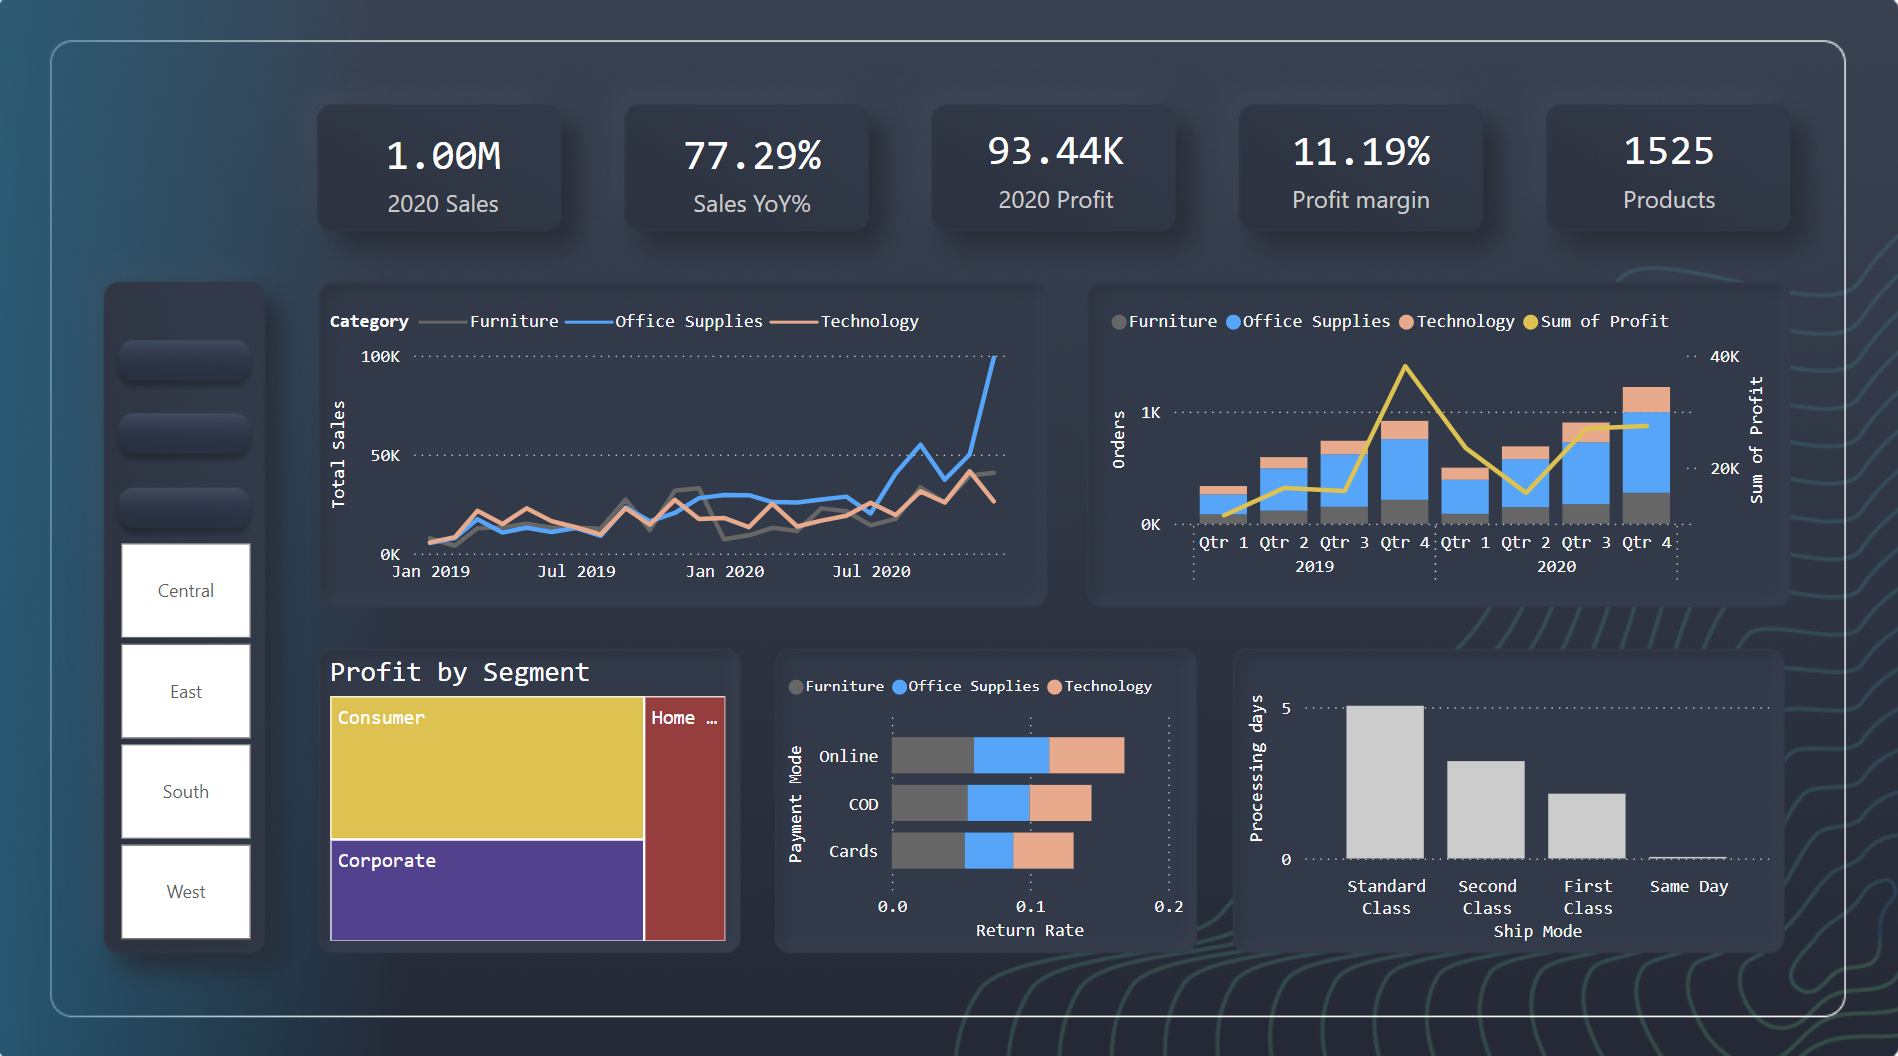

This screenshot's page, from the dashboard's own definition file:
{"tool":"powerbi","page":{"name":"Page 1","canvas":[1280,720],"ordinal":0},"visuals":[{"type":"columnChart","fields":{"Category":["Sheet1.Ship Mode"],"Y":["Avg(Sheet1.Processing Time (Days))"]},"box":[835.4,443.6,359.8,196.4],"z":0},{"type":"card","fields":{"Values":["Sheet1.Sales YoY%"]},"box":[427.6,76.4,161,81.9],"z":1000},{"type":"lineChart","fields":{"Category":["Sheet1.Order Date.Variation.Date Hierarchy.Year","Sheet1.Order Date.Variation.Date Hierarchy.Quarter","Sheet1.Order Date.Variation.Date Hierarchy.Month","Sheet1.Order Date.Variation.Date Hierarchy.Day"],"Y":["Sum(Sheet1.Sales)"],"Series":["Sheet1.Category"]},"box":[220.2,200.6,481.8,203.7],"z":2000},{"type":"treemap","title":"Profit by Segment","fields":{"Values":["Sum(Sheet1.Profit)"],"Group":["Sheet1.Segment"]},"box":[220.2,443.6,275,196.4],"z":3000},{"type":"card","fields":{"Values":["Sum(Sheet1.Profit)"]},"box":[631.7,73.4,160.3,81.7],"z":4000},{"type":"card","fields":{"Values":["Sum(Sheet1.Sales)"]},"box":[220.7,76.4,161,81.9],"z":5000},{"type":"card","fields":{"Values":["Sheet1.Profit margin"]},"box":[835.8,74.4,160.9,80.5],"z":6000},{"type":"slicer","fields":{"Values":["Sheet1.Region"]},"box":[59.3,361.1,136.8,279.6],"z":7000},{"type":"barChart","fields":{"Category":["Sheet1.Payment Mode"],"Y":["Avg(Sheet1.Order Return)"],"Series":["Sheet1.Category"]},"box":[527.3,445.6,275,194.4],"z":8000},{"type":"lineStackedColumnComboChart","fields":{"Category":["Sheet1.Order Date.Variation.Date Hierarchy.Year","Sheet1.Order Date.Variation.Date Hierarchy.Quarter","Sheet1.Order Date.Variation.Date Hierarchy.Month","Sheet1.Order Date.Variation.Date Hierarchy.Day"],"Y2":["Sum(Sheet1.Profit)"],"Series":["Sheet1.Category"],"Y":["CountNonNull(Sheet1.Customer ID)"]},"box":[743.4,200.6,451.8,203.7],"z":9000},{"type":"card","fields":{"Values":["Count(Sheet1.Product ID)"]},"box":[1043,73.4,159.9,81.5],"z":10000}]}

Visuals, with their boxes in screenshot pixels (x1, y1, x2, y2), scaled from the page's 1280x720 canvas onto the 1898x1056 screenshot:
columnChart - Sheet1.Ship Mode x Avg(Sheet1.Processing Time (Days)): pyautogui.locateOnScreen(1239, 651, 1772, 939)
card - Sheet1.Sales YoY%: pyautogui.locateOnScreen(634, 112, 873, 232)
lineChart - Sheet1.Order Date.Variation.Date Hierarchy.Year x Sheet1.Order Date.Variation.Date Hierarchy.Quarter: pyautogui.locateOnScreen(327, 294, 1041, 593)
"Profit by Segment" treemap: pyautogui.locateOnScreen(327, 651, 734, 939)
card - Sum(Sheet1.Profit): pyautogui.locateOnScreen(937, 108, 1174, 227)
card - Sum(Sheet1.Sales): pyautogui.locateOnScreen(327, 112, 566, 232)
card - Sheet1.Profit margin: pyautogui.locateOnScreen(1239, 109, 1478, 227)
slicer - Sheet1.Region: pyautogui.locateOnScreen(88, 530, 291, 940)
barChart - Sheet1.Payment Mode x Avg(Sheet1.Order Return): pyautogui.locateOnScreen(782, 654, 1190, 939)
lineStackedColumnComboChart - Sheet1.Order Date.Variation.Date Hierarchy.Year x Sheet1.Order Date.Variation.Date Hierarchy.Quarter: pyautogui.locateOnScreen(1102, 294, 1772, 593)
card - Count(Sheet1.Product ID): pyautogui.locateOnScreen(1547, 108, 1784, 227)
